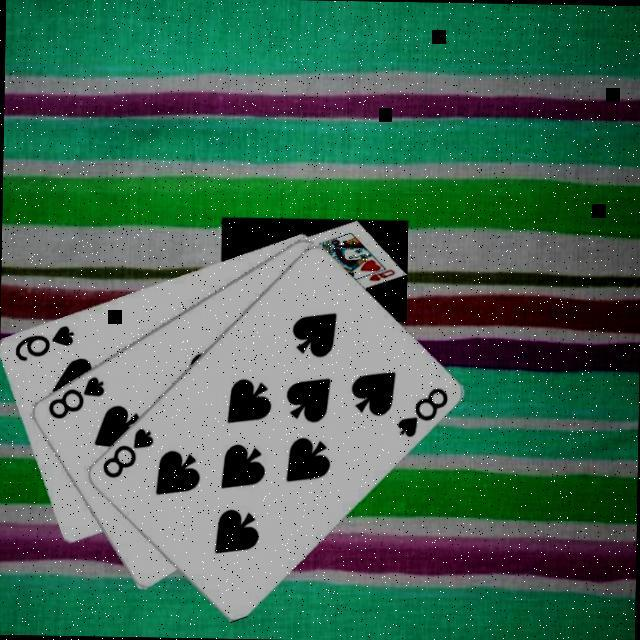6S: (13, 320, 79, 364)
8S: (99, 422, 158, 481), (45, 371, 109, 422), (395, 383, 452, 440)
